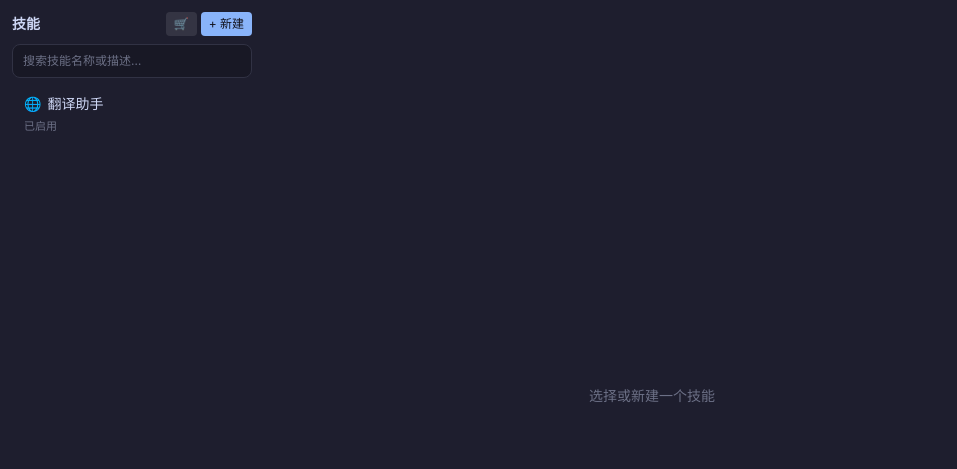
Test: 自带文件那三张脸 › 确实没有 ⇒ 那一句是"没有自带文件"，不是空白一块
This screenshot has width=957, height=469.
Click the text "翻译助手": (76, 104) [48, 94, 104, 114]
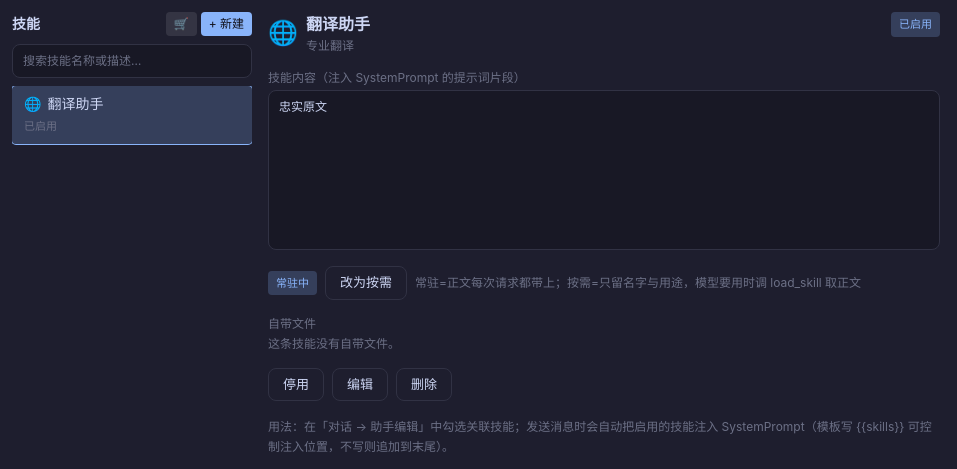
Result: the text with test id "skill-files-empty" reads "这条技能没有自带文件。" at [268, 336, 400, 350]
